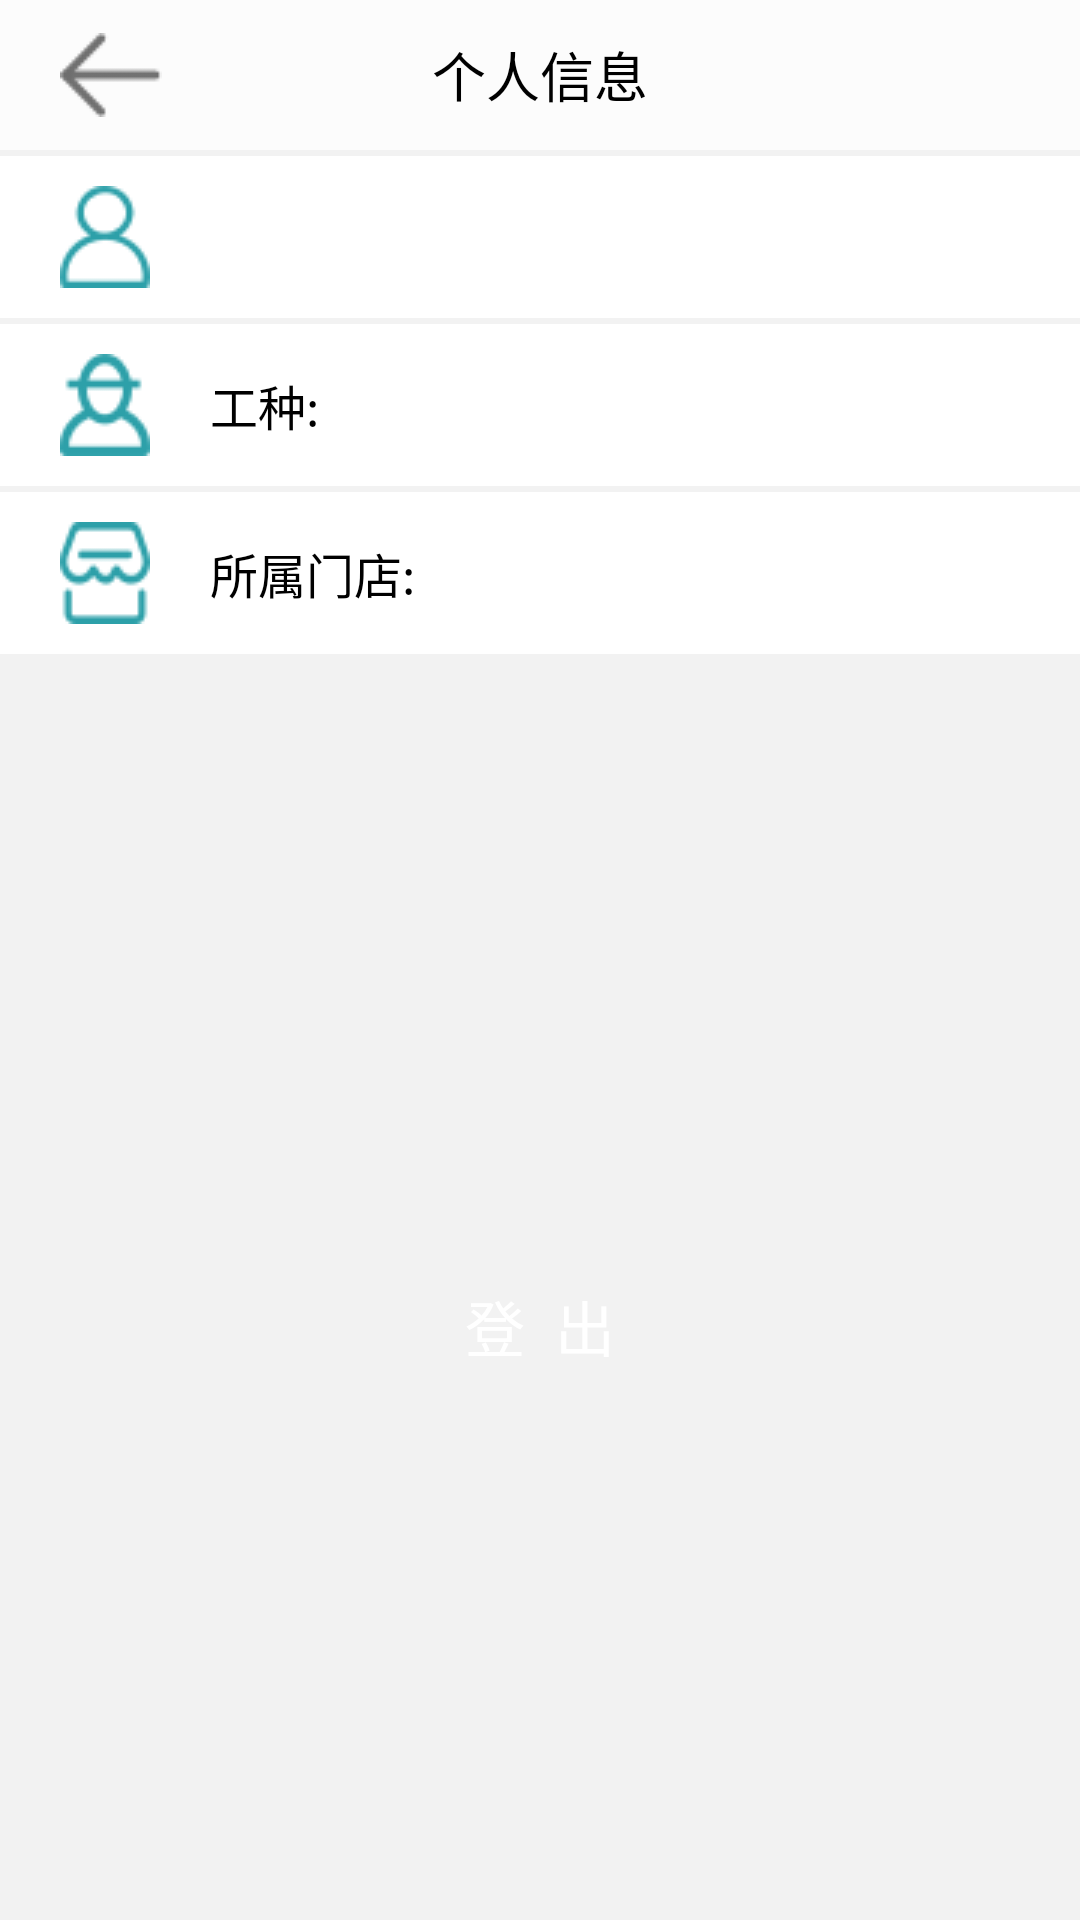

Icons on this 1080w x 1920h Android screen, each with its box as [x1,y1,x2,y2]:
fanhui: [60,33,160,117]
gongzhong: [60,354,150,456]
mendian: [60,522,150,624]
yonghuming: [60,186,150,288]
